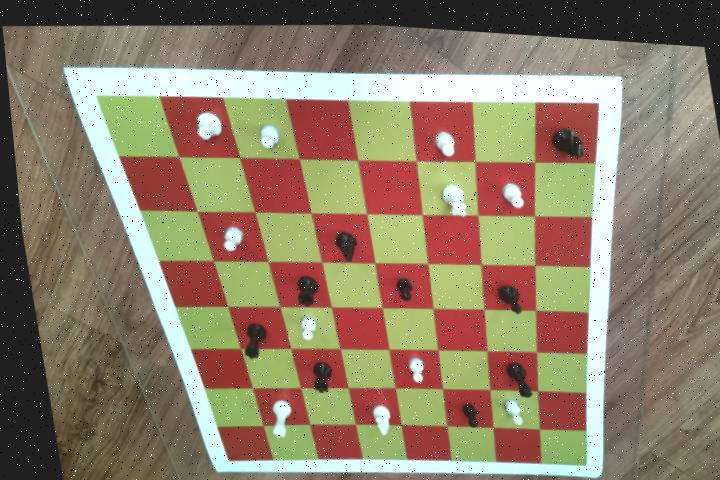chessboard-detect: (93, 93, 598, 458)
